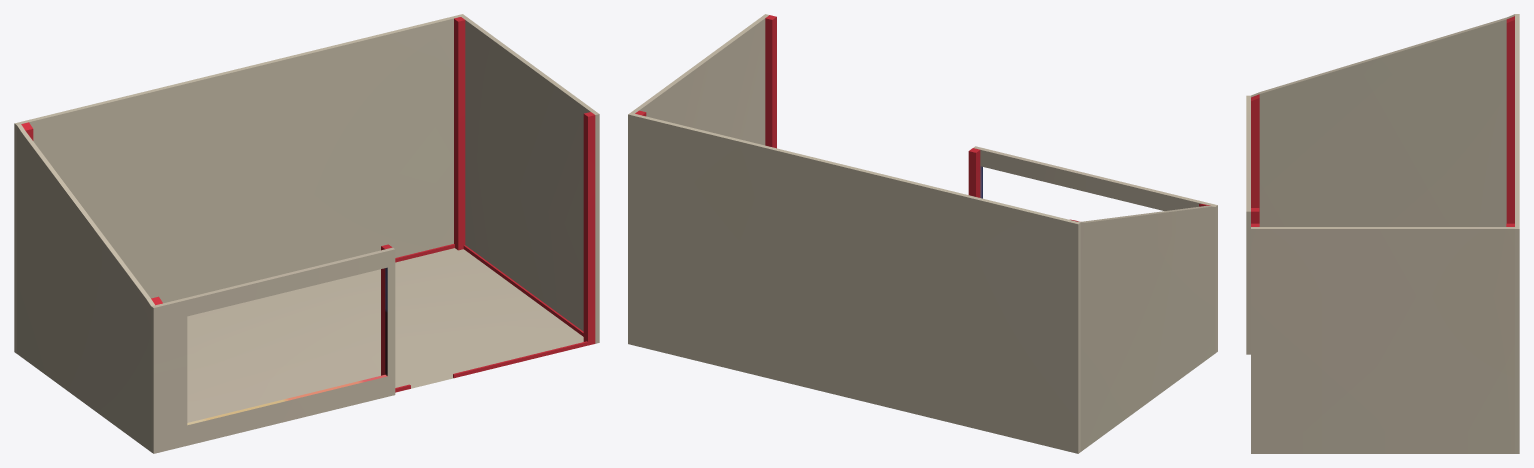
The model's file is postoffice_interior_2.fbx.
3 renders of one model, left to right at view 1: azimuth 30°, elevation 25°; view 2: azimuth 150°, elevation 25°; view 3: azimuth 270°, elevation 25°, orthographic. The views are drawn at different scales.
Parts seen in each view (by area): view 1: polySurface927; view 2: polySurface927; view 3: polySurface927.
Part boxes in pixels (left/top/right/bottom): polySurface927: left=14, top=14, right=599, bottom=453; polySurface927: left=628, top=14, right=1217, bottom=453; polySurface927: left=1246, top=14, right=1519, bottom=453.
Size of the model in its own units: 88.66 by 43.21 by 47.65.
1 material, 1 textured.
